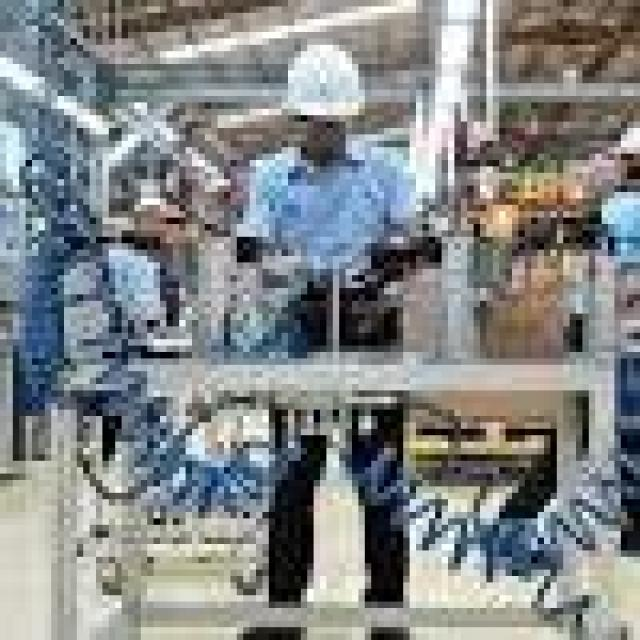Safety-Helmet: (262, 32, 384, 134)
